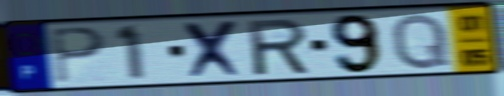1: (112, 24, 152, 82)
9: (328, 12, 387, 75)
P: (49, 25, 109, 86)
Q: (389, 11, 453, 72)
R: (244, 16, 313, 79)
X: (181, 18, 248, 81)
